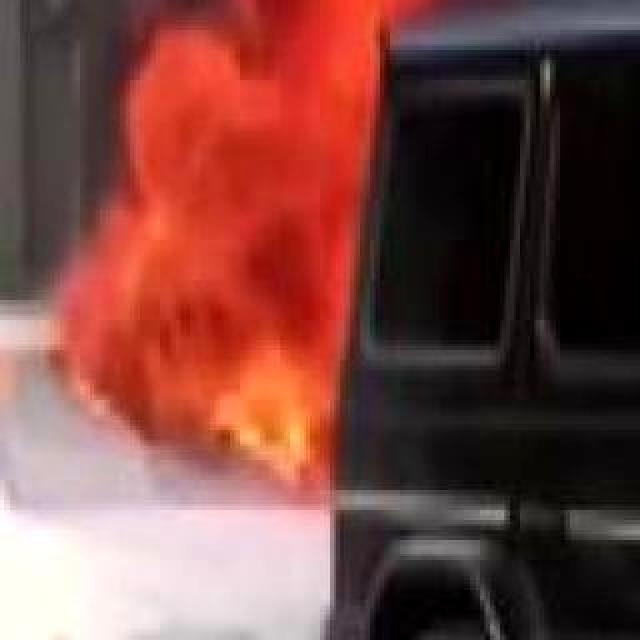fire: (58, 0, 444, 480)
